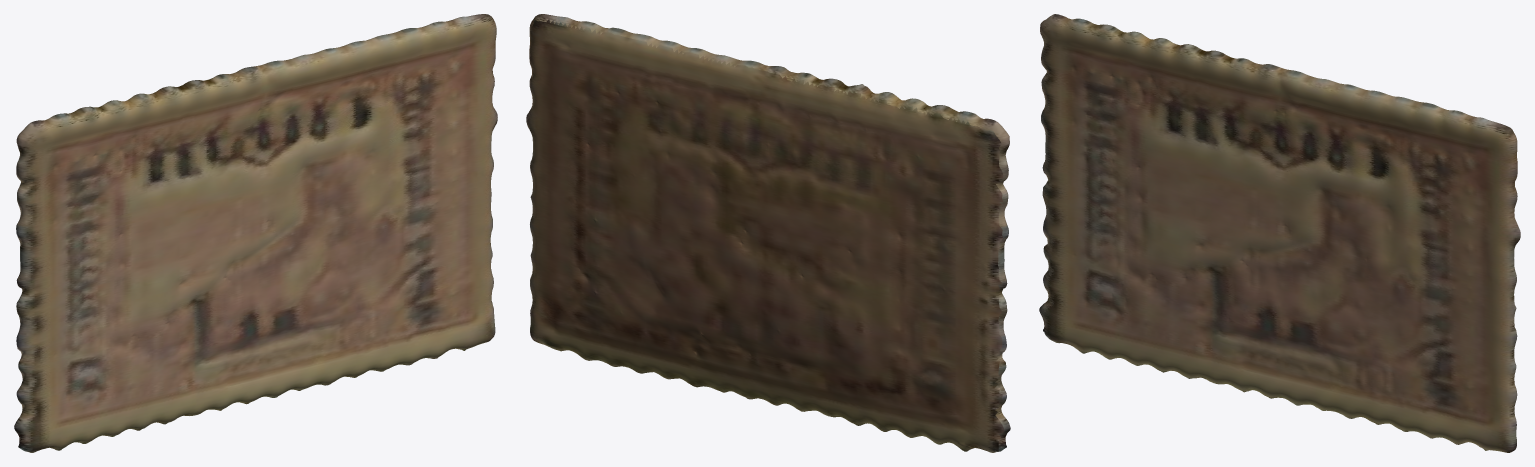
Rendered from kfl-2225.glb.
The picture shows the model from 3 angles, left to right: view 1: azimuth 30°, elevation 25°; view 2: azimuth 150°, elevation 25°; view 3: azimuth 330°, elevation 25°; orthographic projection.
Visible parts, largest first — view 1: geometry_0; view 2: geometry_0; view 3: geometry_0.
Part boxes in pixels (x1=…): geometry_0: x1=14, y1=14, x2=497, y2=452; geometry_0: x1=526, y1=14, x2=1010, y2=452; geometry_0: x1=1039, y1=14, x2=1520, y2=452.
Size of the model in its own units: 0.9841 by 0.6612 by 0.0672.
Materials: 1 (1 with a texture image).
